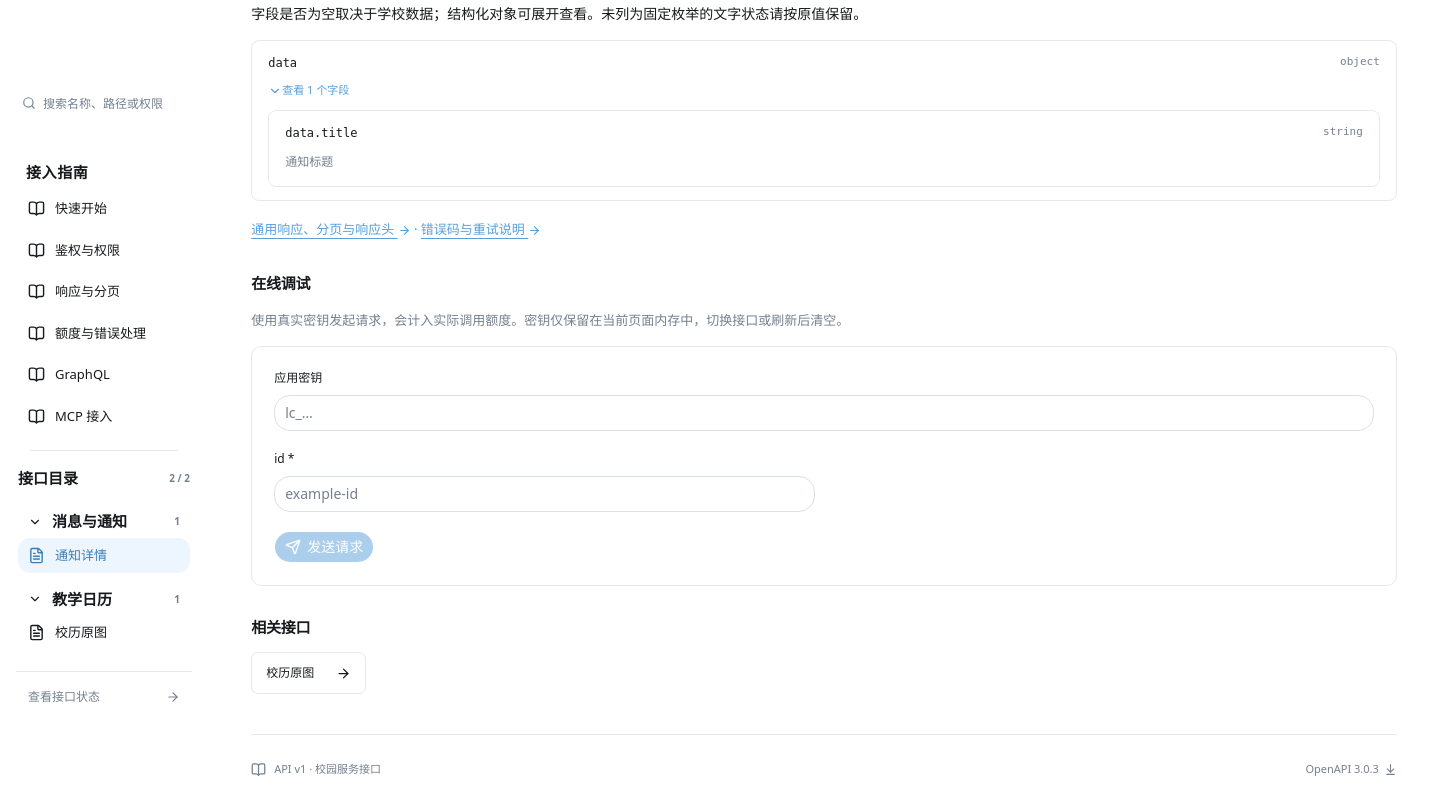
Test: encodes explorer parameters, shows request diagnostics and never puts the entered key in examples
(page scrolled)
Type "lc_TEST_ONLY_SECRET" into the password field labelled "应用密钥" at (824, 413), box 274,395 -> 1374,431
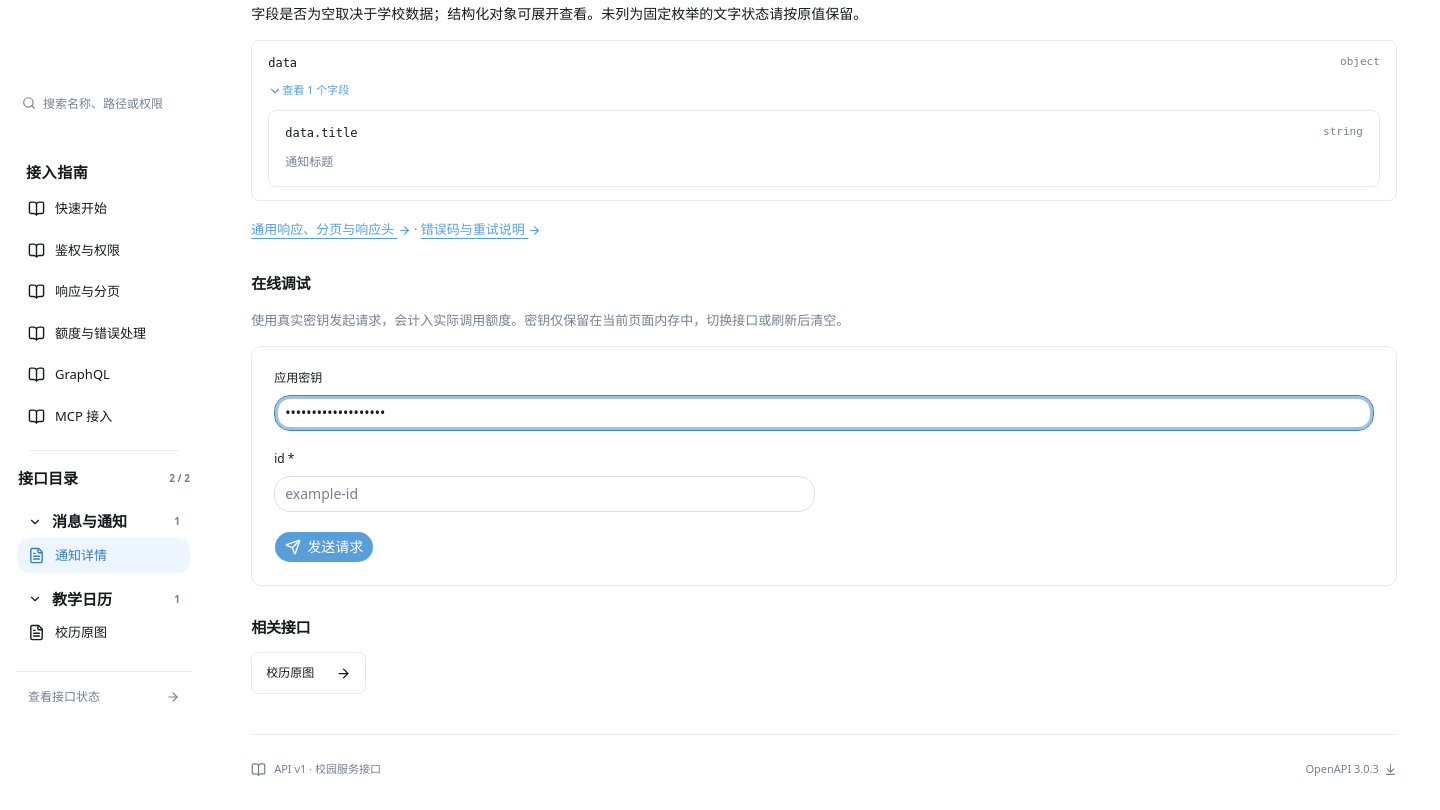
Type "ugs:1&中文" into the field labelled "id *" at (545, 494), box 274,476 -> 815,512
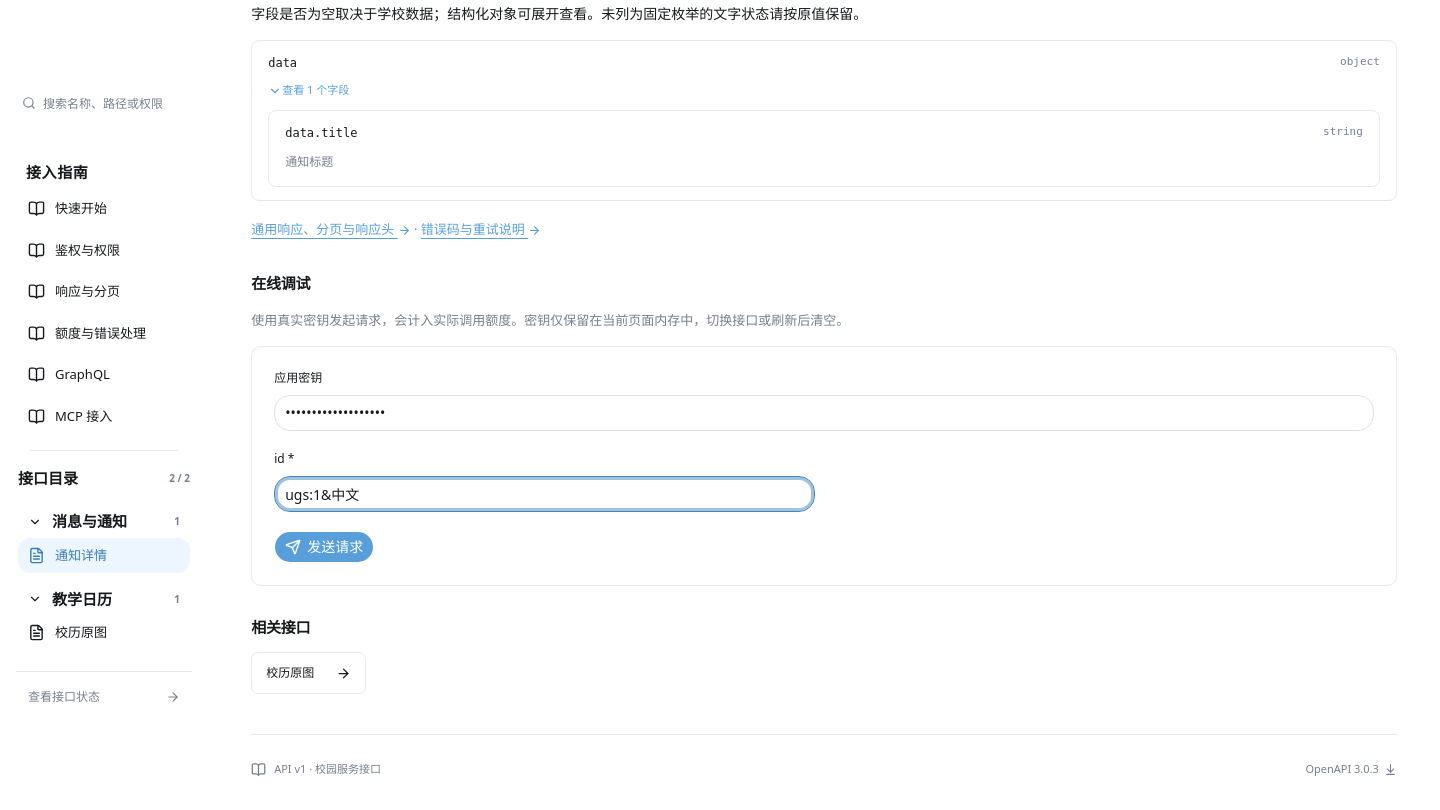
Click the button "发送请求" at (324, 547), box 274,531 -> 374,563
(page scrolled)
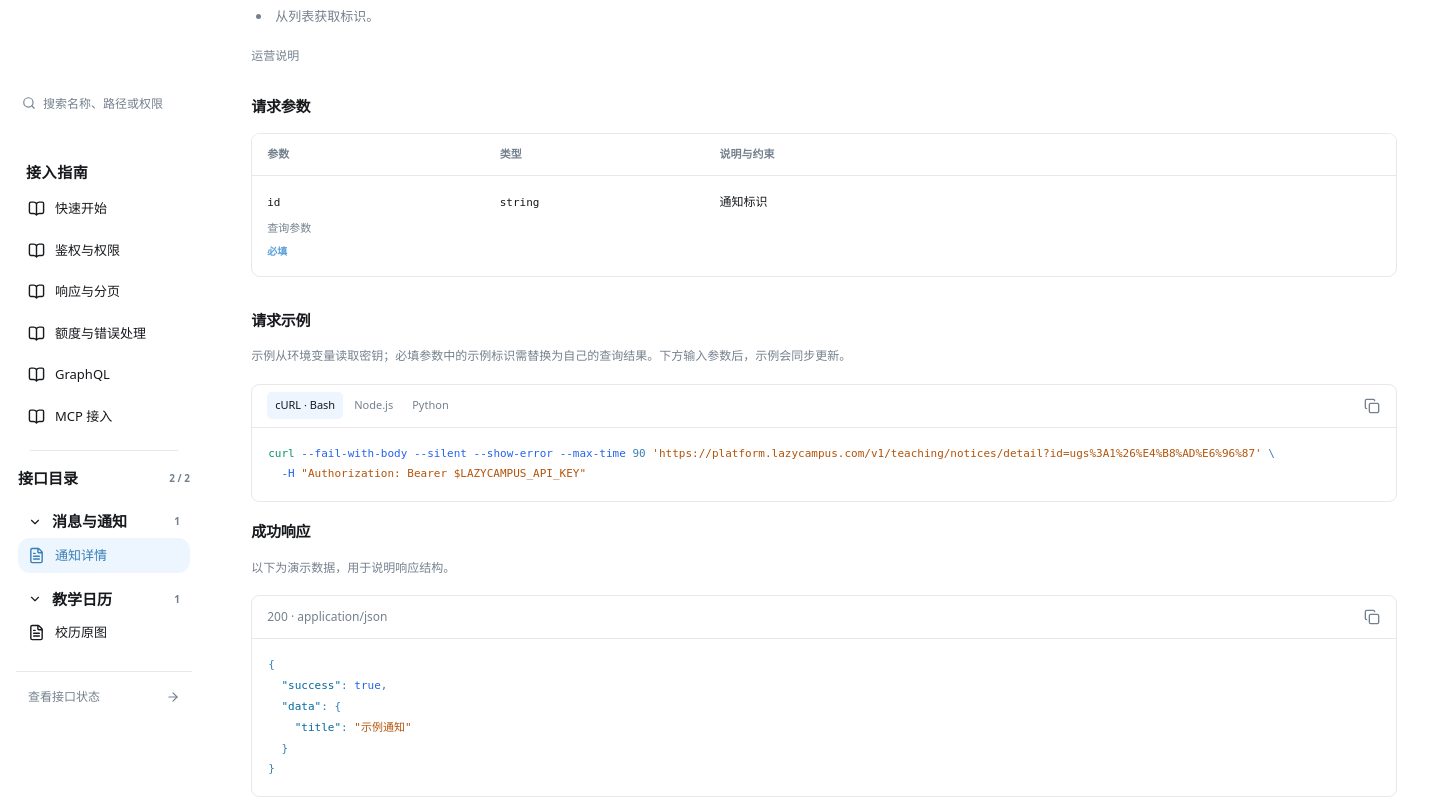
Click the button "Node.js" at (374, 406), box 346,392 -> 401,419
(page scrolled)
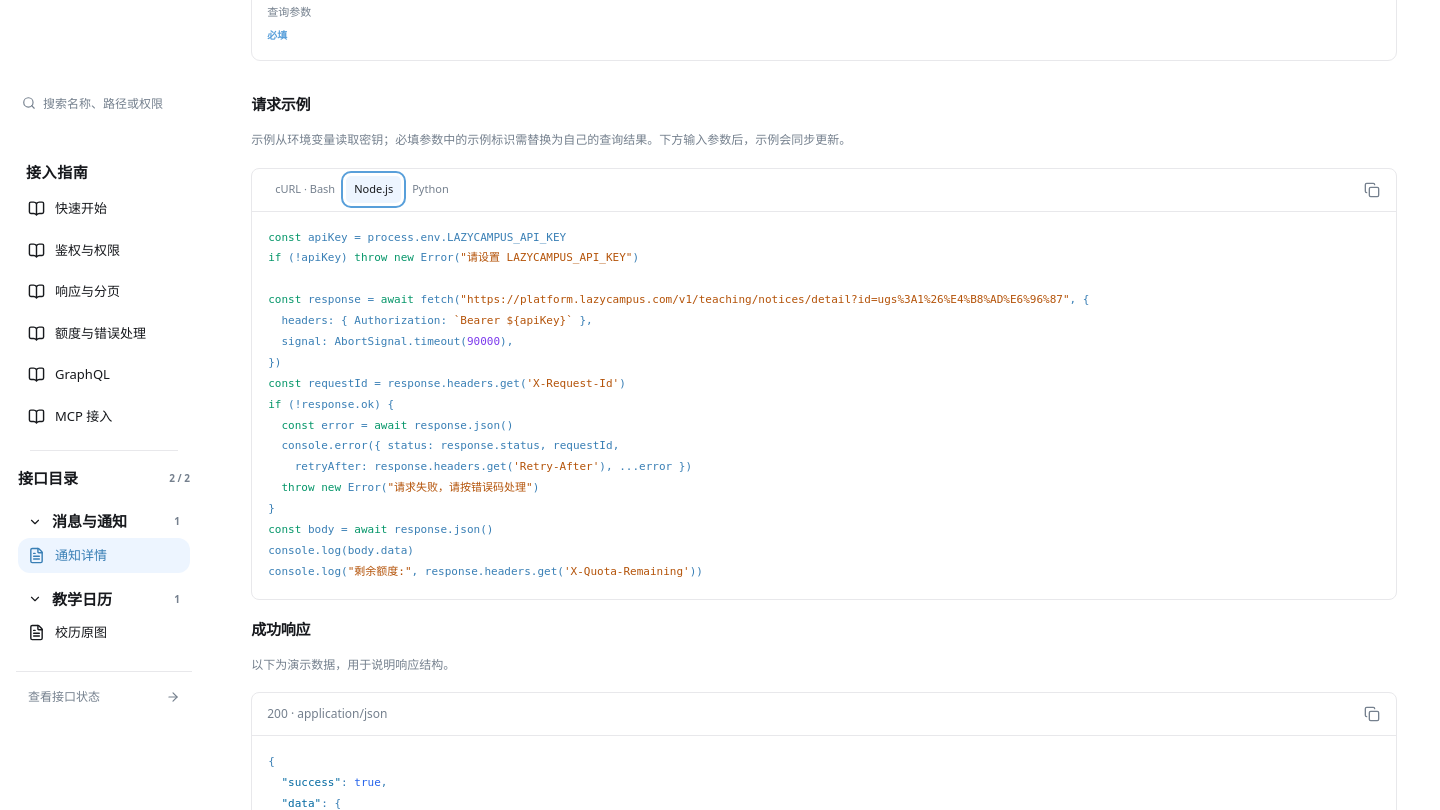
Expected: the element that starts with "const" shows "process.env.LAZYCAMPUS_API_KEY", 268,230 -> 1090,578
